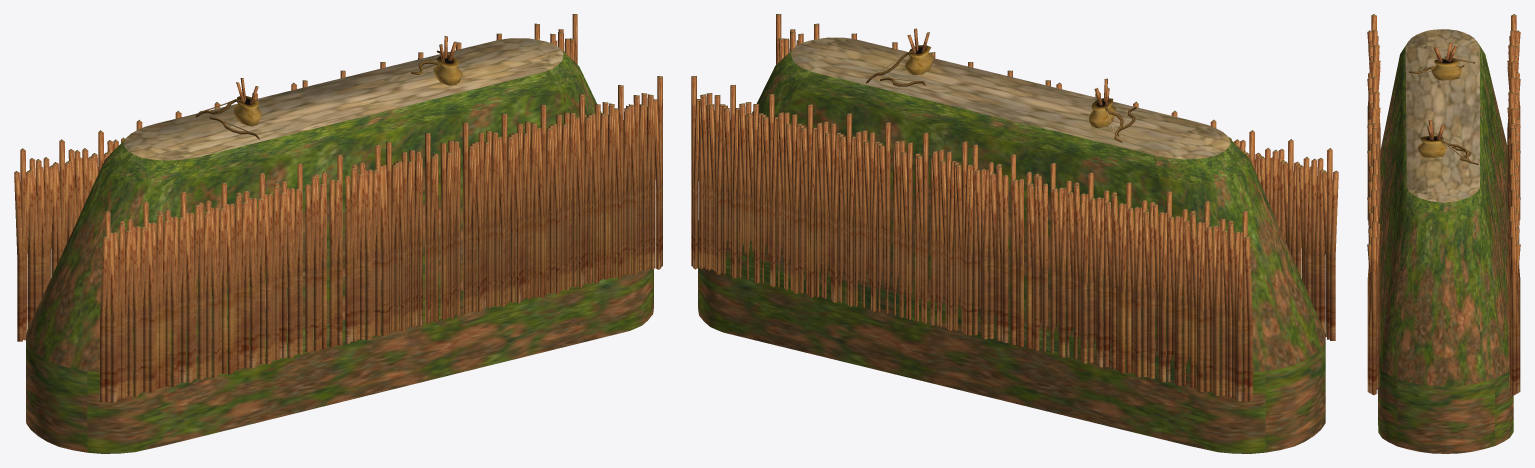
Rendered from wall_long.dae.
The picture shows the model from 3 angles, left to right: view 1: azimuth 30°, elevation 25°; view 2: azimuth 150°, elevation 25°; view 3: azimuth 270°, elevation 25°; orthographic projection. The views are drawn at different scales.
Visible parts, largest first — view 1: wall_long.002; view 2: wall_long.002; view 3: wall_long.002.
Part boxes in pixels (left/top/right/bottom): wall_long.002: left=14, top=14, right=662, bottom=453; wall_long.002: left=691, top=14, right=1338, bottom=453; wall_long.002: left=1367, top=14, right=1520, bottom=453.
Bounding box in the file's own units: 38.5 × 10.23 × 18.33.
